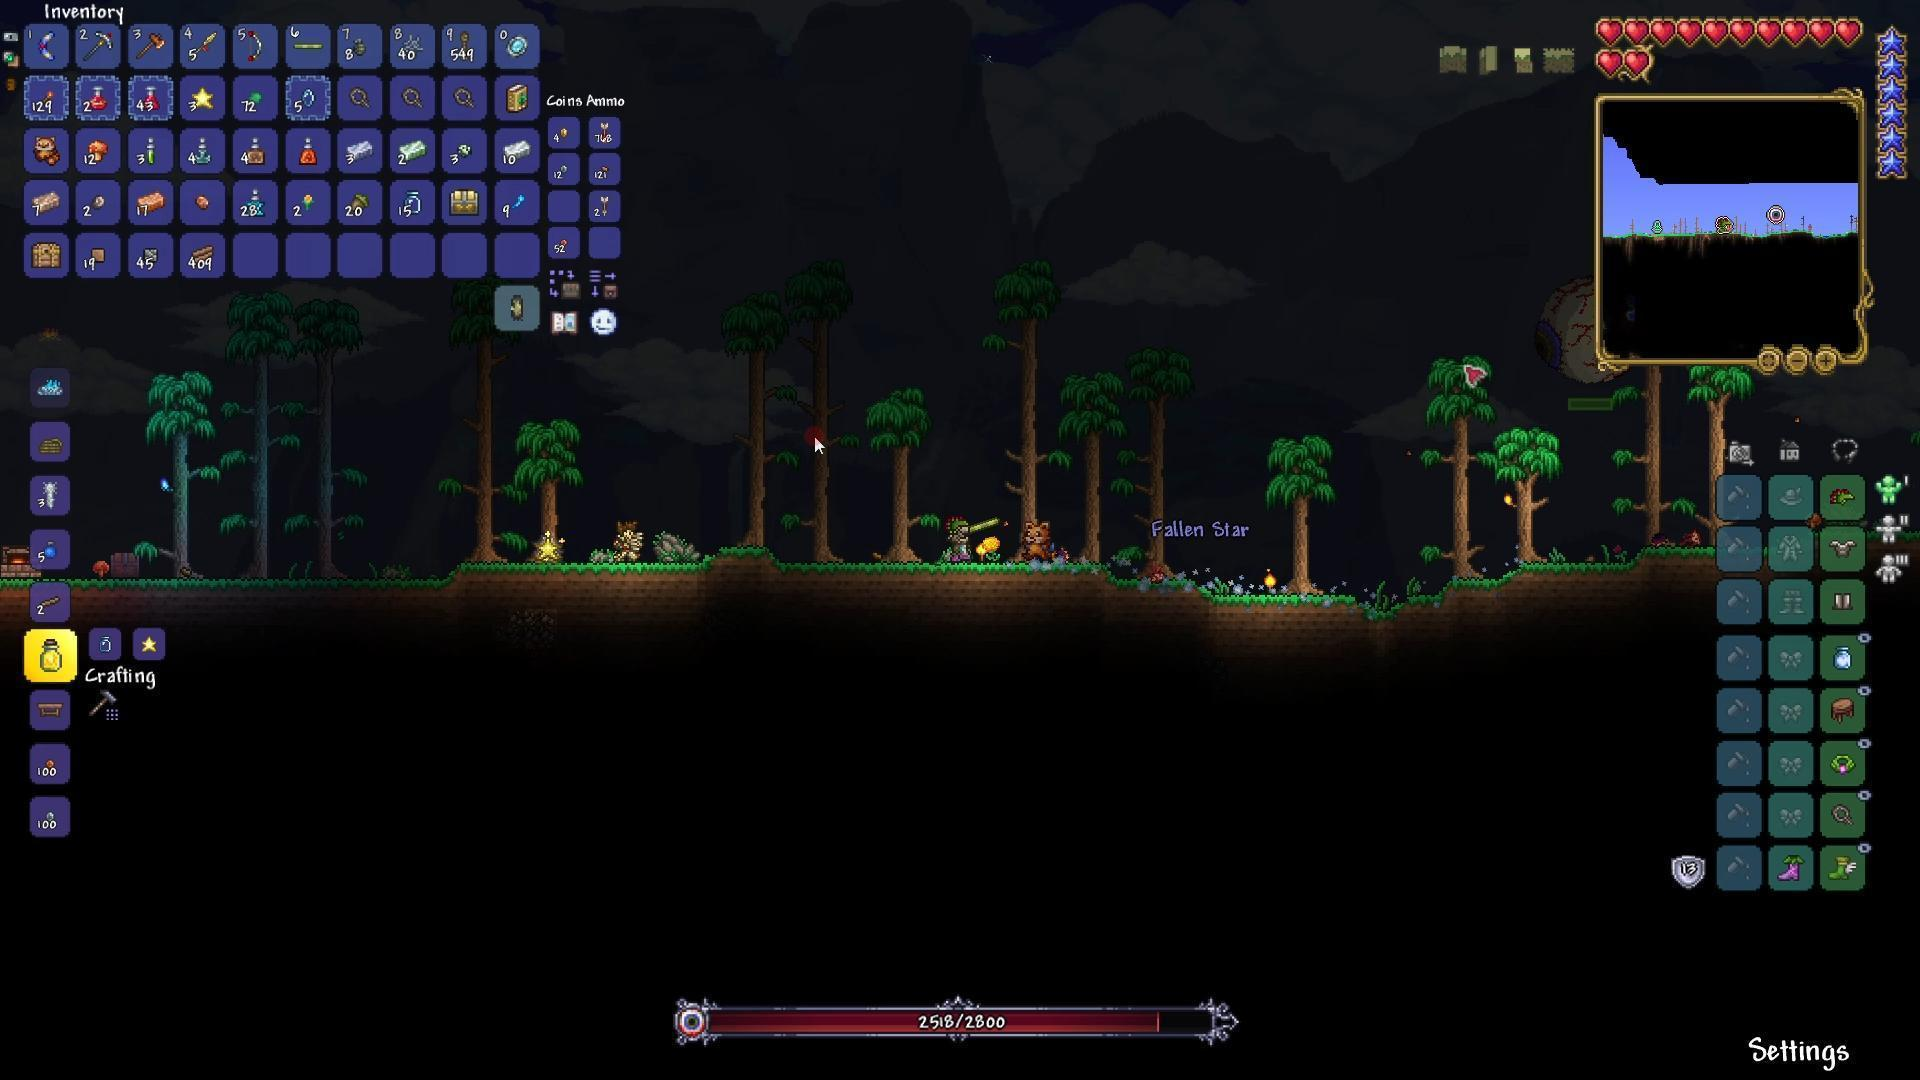axe: (136, 32, 170, 63)
breastplate: (1826, 539, 1858, 560)
cobwebI: (400, 33, 426, 58)
eyeC: (1523, 260, 1655, 419)
furnace: (0, 535, 50, 589)
legs: (1829, 591, 1855, 613)
lens: (301, 87, 318, 108)
star: (534, 529, 563, 567)
workbench: (37, 700, 67, 717)
zombie: (612, 516, 647, 567)
